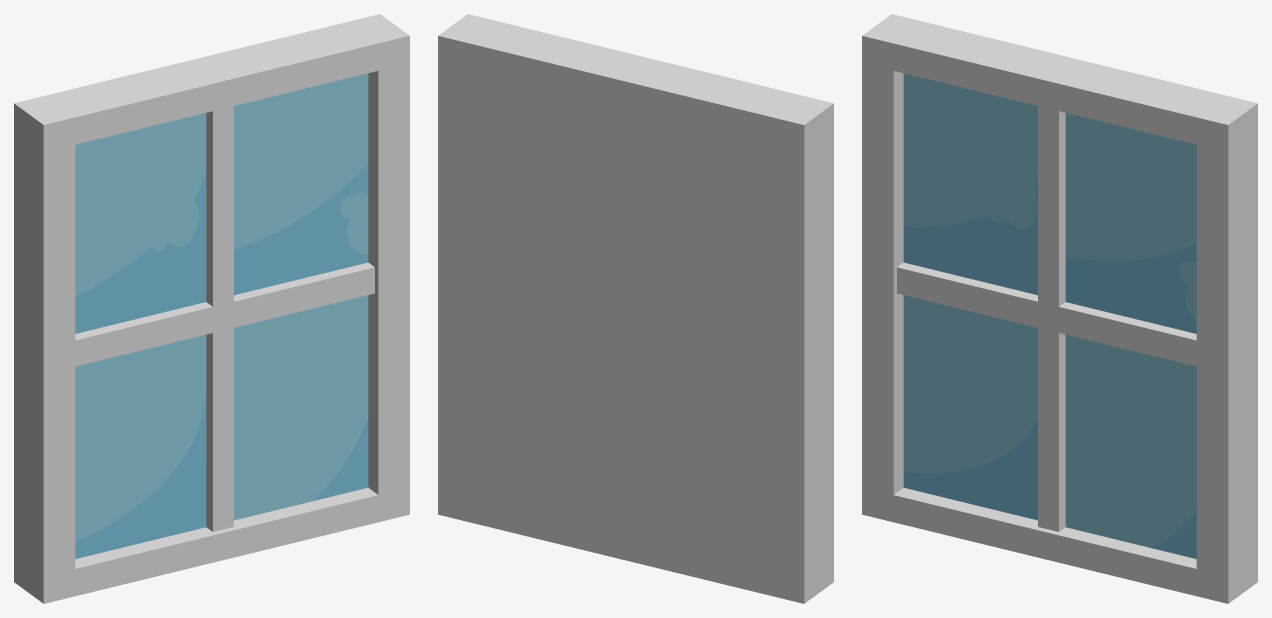
File: window.fbx
3 views of the same model, side by side, from view 1: azimuth 30°, elevation 25°; view 2: azimuth 150°, elevation 25°; view 3: azimuth 330°, elevation 25° (orthographic).
Parts seen in each view (by area): view 1: Cube; view 2: Cube; view 3: Cube.
Boxes of the visible parts, bbox=[...] form: Cube: bbox=[14, 14, 409, 603]; Cube: bbox=[438, 14, 833, 603]; Cube: bbox=[862, 14, 1257, 603].
Size of the model in its own units: 400 by 500 by 56.32.
